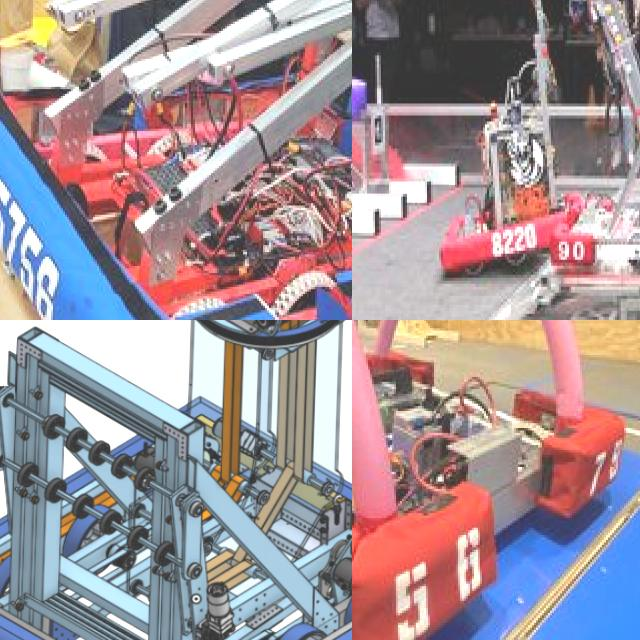FRC-Robots: (0, 0, 352, 320), (0, 320, 352, 640), (352, 320, 640, 640), (401, 0, 565, 269), (546, 0, 640, 284)
